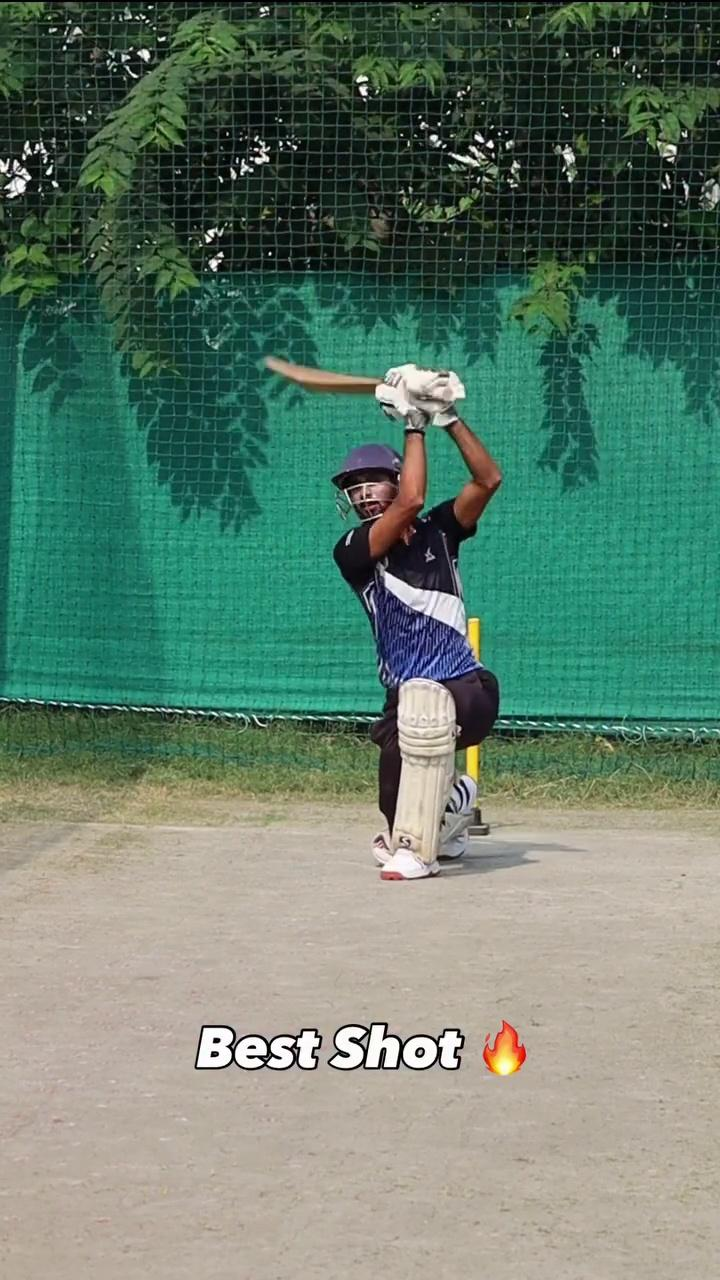bat: (256, 352, 383, 408)
